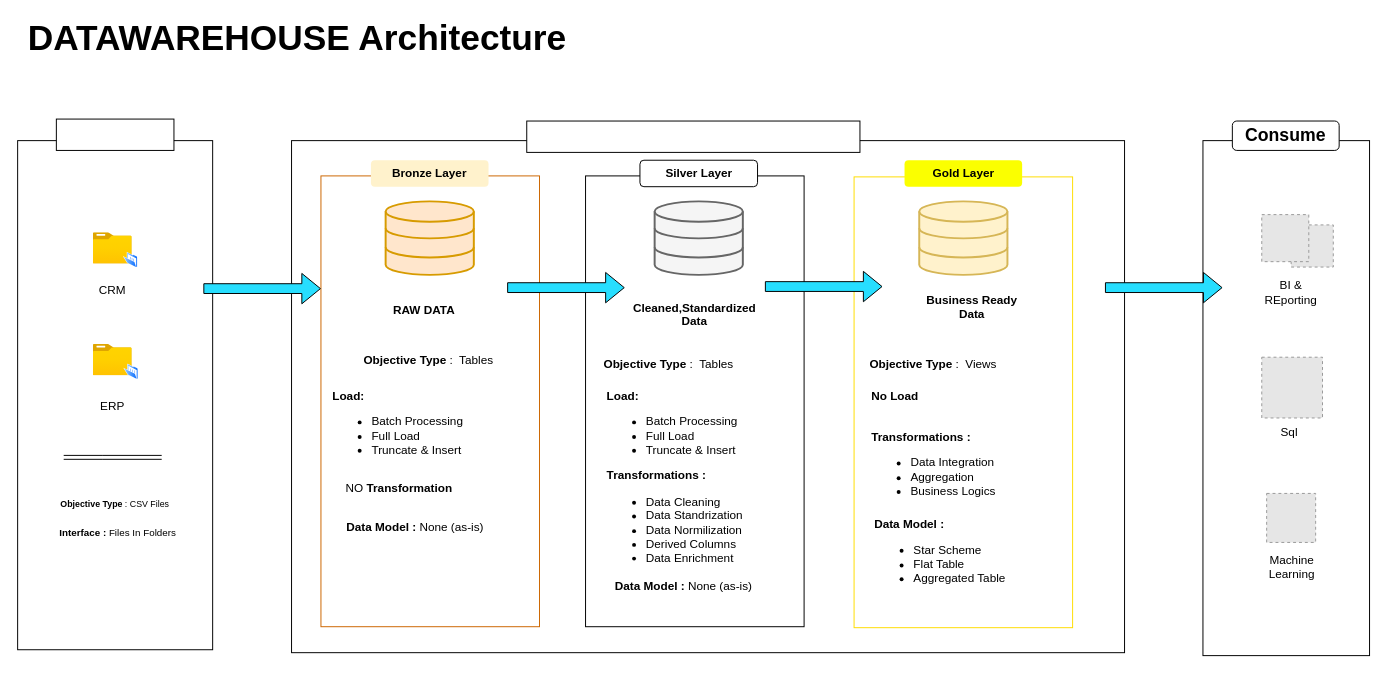
Some shapes in this 1387 by 673 pixel diagram are drawn without their labels. Grey dashed boxes stand in for pictures. Here are the shapes that lost their labels. From the top down, the box of each, then its label:
(55, 118, 174, 150): Sources
(526, 120, 860, 152): Data Warehouse
